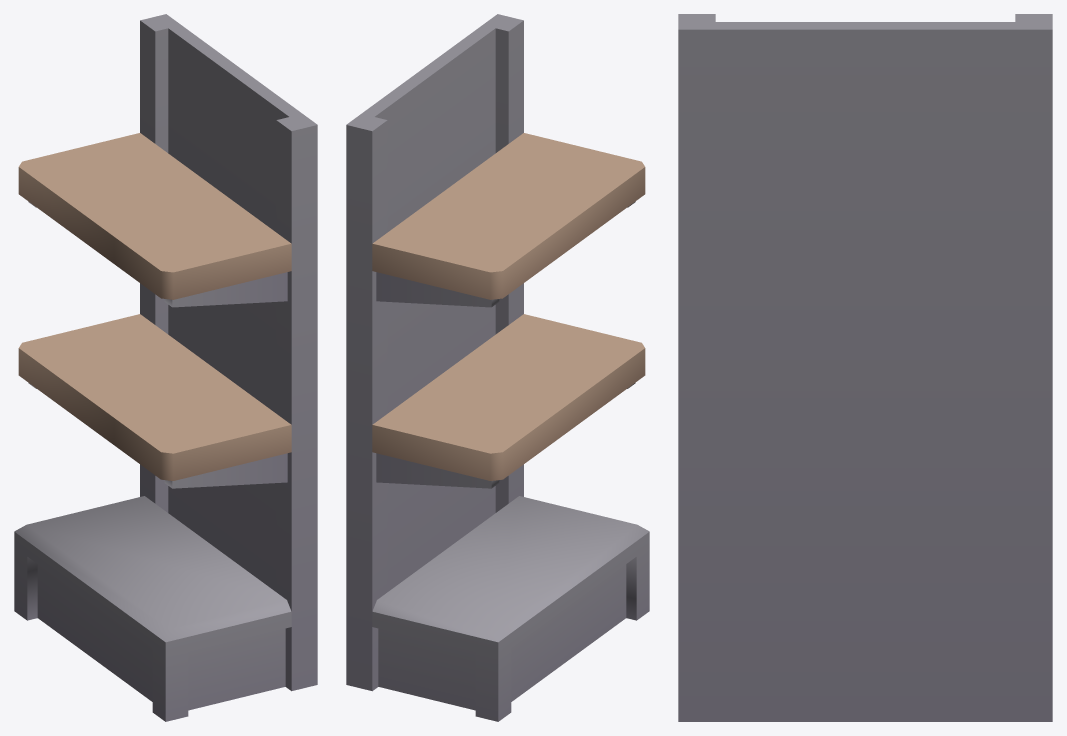
The model's file is retail-shelf-narrow-low.glb.
The picture shows the model from 3 angles, left to right: view 1: azimuth 30°, elevation 25°; view 2: azimuth 150°, elevation 25°; view 3: azimuth 270°, elevation 25°; orthographic projection. The views are drawn at different scales.
Visible parts, largest first — view 1: retail-shelf-narrow-low; view 2: retail-shelf-narrow-low; view 3: retail-shelf-narrow-low.
Boxes of the visible parts, box(x1,y1,x2,y2) form: retail-shelf-narrow-low: box(14, 14, 317, 721); retail-shelf-narrow-low: box(346, 14, 649, 721); retail-shelf-narrow-low: box(678, 14, 1052, 721).
Size of the model in its own units: 0.29 by 1.02 by 0.5.
